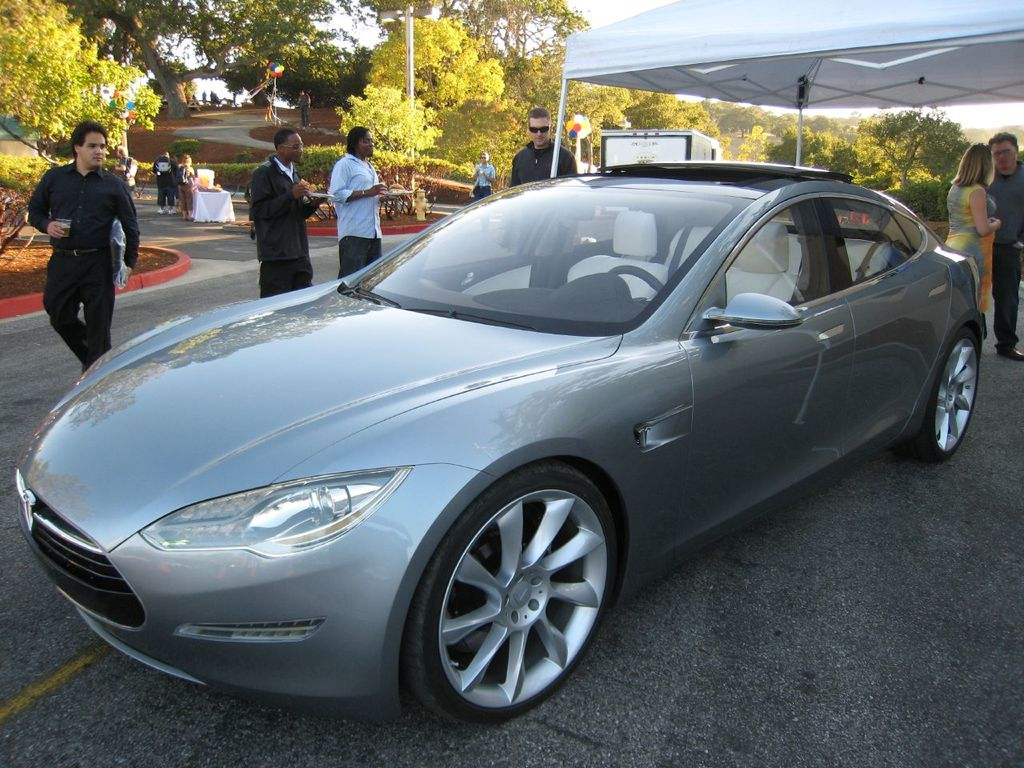Person: (27, 89, 1024, 374)
